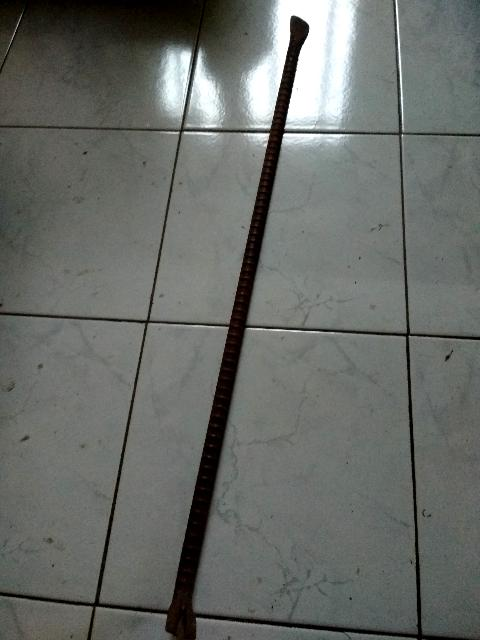crow bar: (157, 15, 315, 640)
